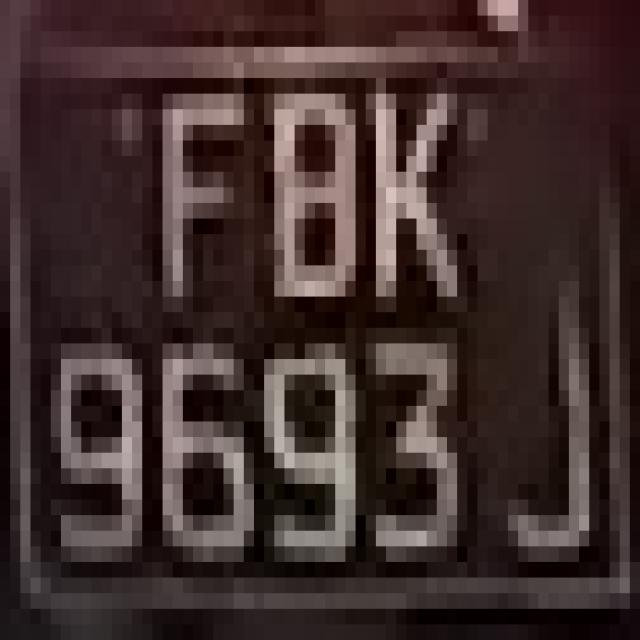3: (346, 297, 457, 593)
6: (152, 281, 254, 578)
9: (244, 296, 386, 578), (21, 266, 142, 578)
B: (234, 15, 356, 296)
F: (132, 16, 234, 266)
J: (467, 265, 620, 562)
K: (325, 32, 478, 344)
